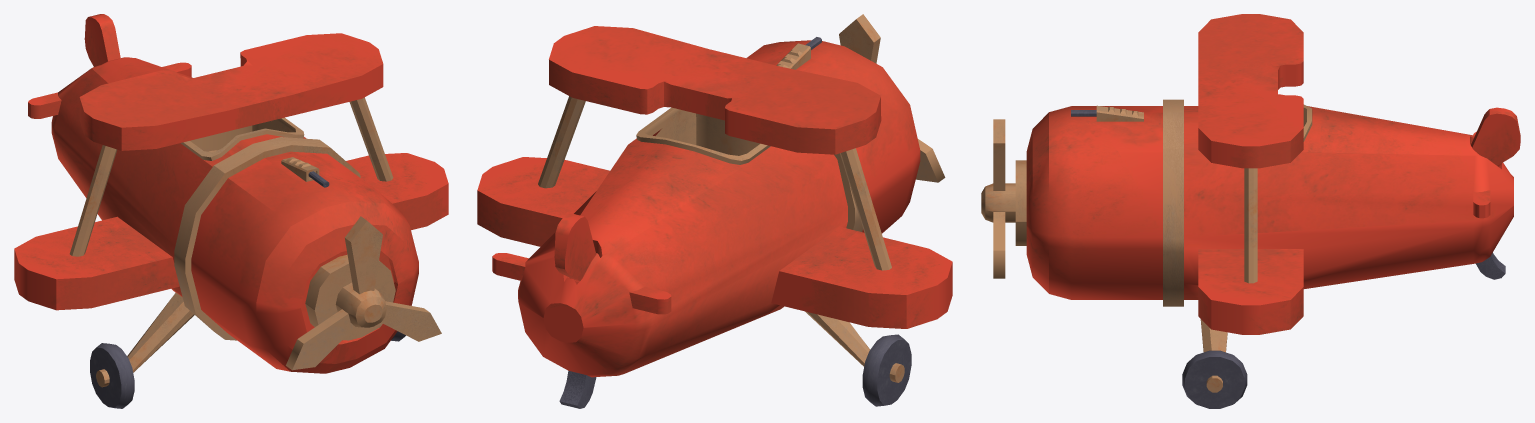
The model's file is Avion_Rojo.fbx.
3 renders of one model, left to right at view 1: azimuth 30°, elevation 25°; view 2: azimuth 150°, elevation 25°; view 3: azimuth 270°, elevation 25°, orthographic. The views are drawn at different scales.
Visible parts, largest first — view 1: AvionROJO, Helice_AvionROJO; view 2: AvionROJO, Helice_AvionROJO; view 3: AvionROJO, Helice_AvionROJO.
Boxes of the visible parts, <box> form: AvionROJO: <box>14,14,448,408</box>; Helice_AvionROJO: <box>286,216,441,370</box>; AvionROJO: <box>477,26,952,408</box>; Helice_AvionROJO: <box>839,14,945,182</box>; AvionROJO: <box>1015,14,1520,408</box>; Helice_AvionROJO: <box>981,119,1015,278</box>.
Size of the model in its own units: 12.33 by 7.88 by 14.58.
1 material, 1 textured.
